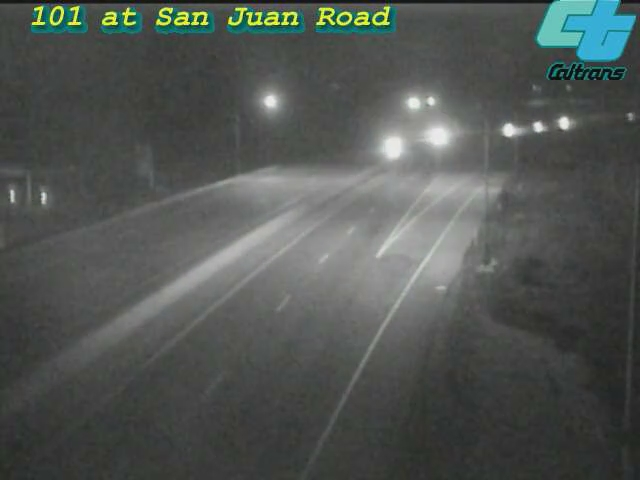vehicle: (368, 121, 418, 171), (406, 113, 456, 163), (540, 99, 590, 149), (513, 102, 563, 152), (485, 104, 535, 154)
